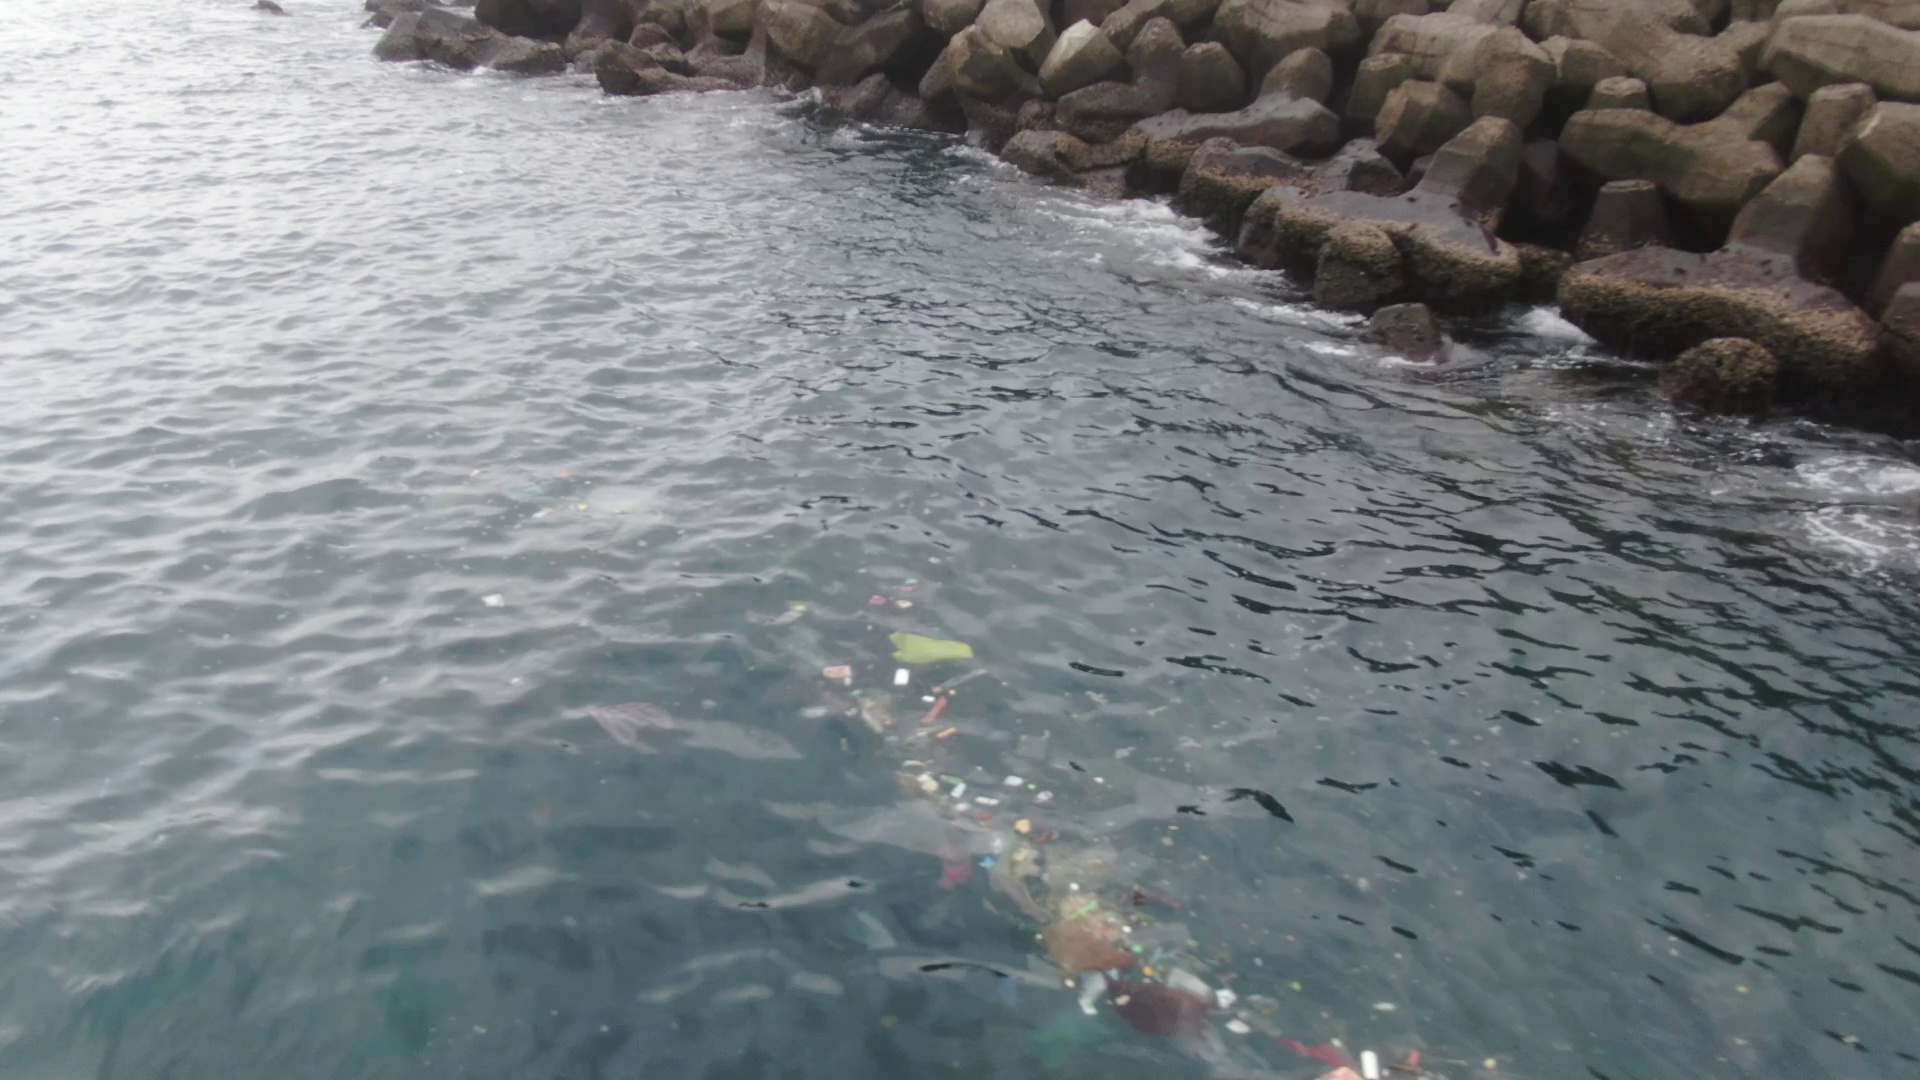garbage: (1036, 911, 1295, 1044), (814, 661, 971, 775), (1203, 1022, 1513, 1080), (942, 831, 1141, 916), (918, 774, 1079, 831), (873, 615, 982, 673)
